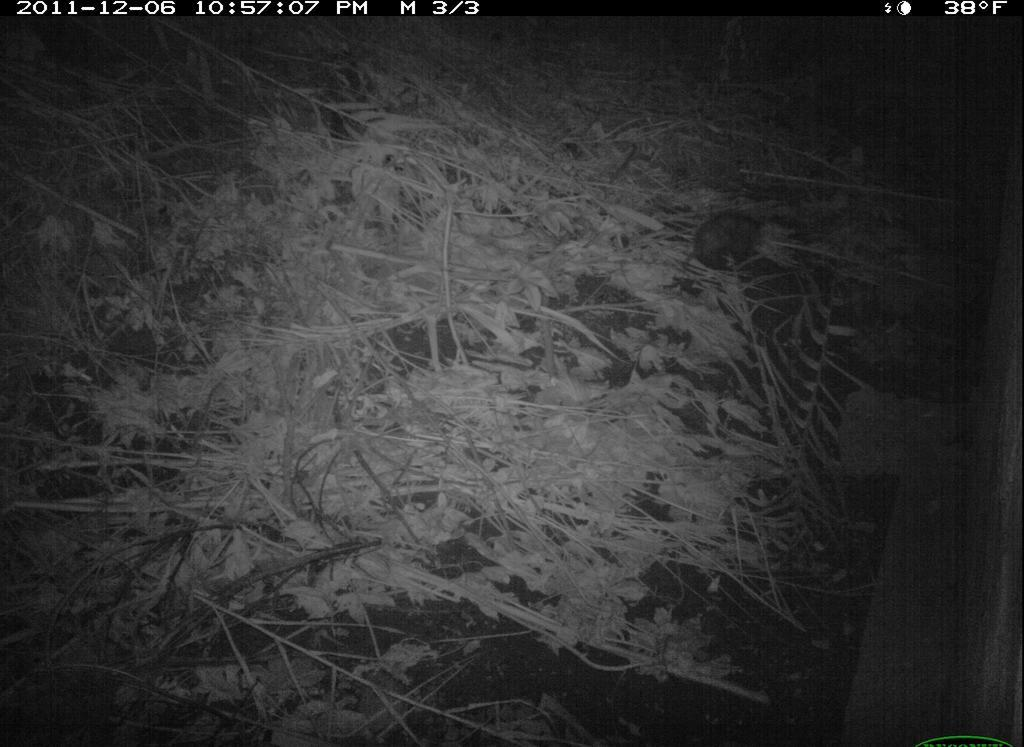opossum: (667, 201, 776, 281)
